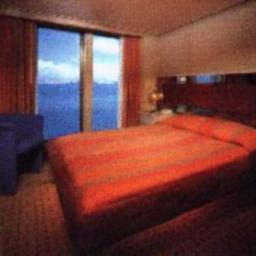Cama: (45, 94, 249, 230)
